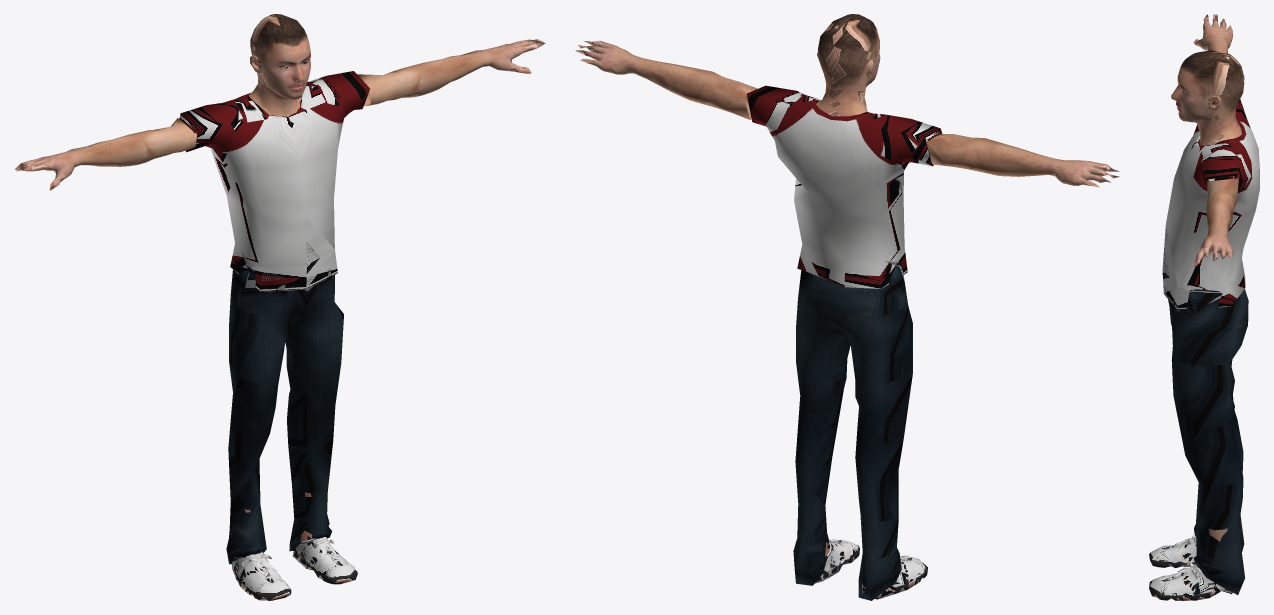
The model's file is Michael@t-pose_3.fbx.
3 renders of one model, left to right at view 1: azimuth 30°, elevation 25°; view 2: azimuth 150°, elevation 25°; view 3: azimuth 270°, elevation 25°, orthographic. The views are drawn at different scales.
Parts seen in each view (by area): view 1: Michael_Geo1; view 2: Michael_Geo1; view 3: Michael_Geo1.
Part boxes in pixels (x1,y1,x2,y2): Michael_Geo1: (15,14,545,600); Michael_Geo1: (575,14,1119,600); Michael_Geo1: (1149,14,1259,600).
Bounding box in the file's own units: 1.86 × 1.86 × 0.3548.
